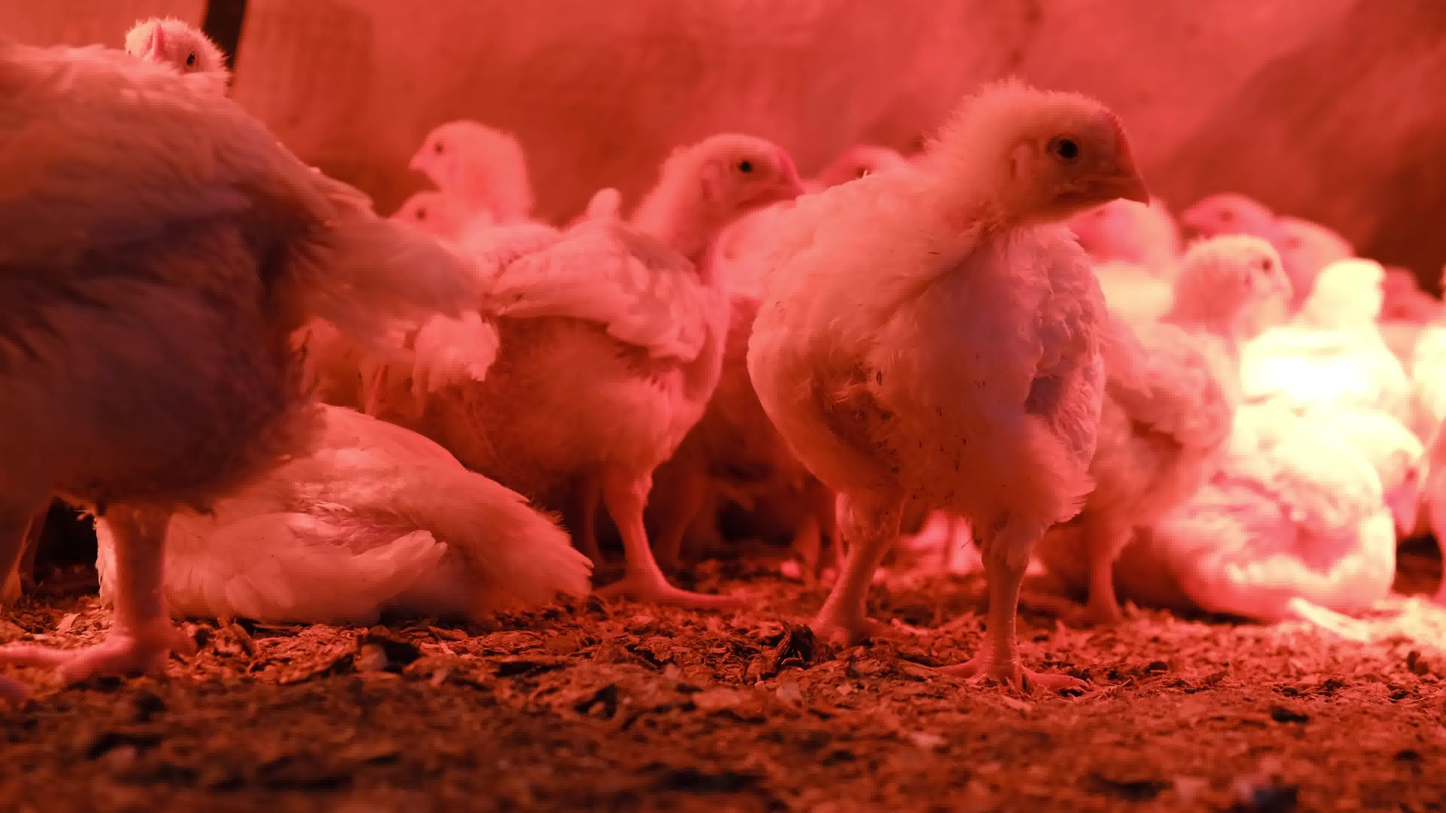AbNormal: (0, 367, 597, 646), (1165, 388, 1446, 629)
Normal: (719, 49, 1141, 676), (0, 2, 335, 691), (503, 130, 821, 619), (1081, 228, 1277, 649), (335, 77, 569, 292), (1246, 181, 1425, 440)
